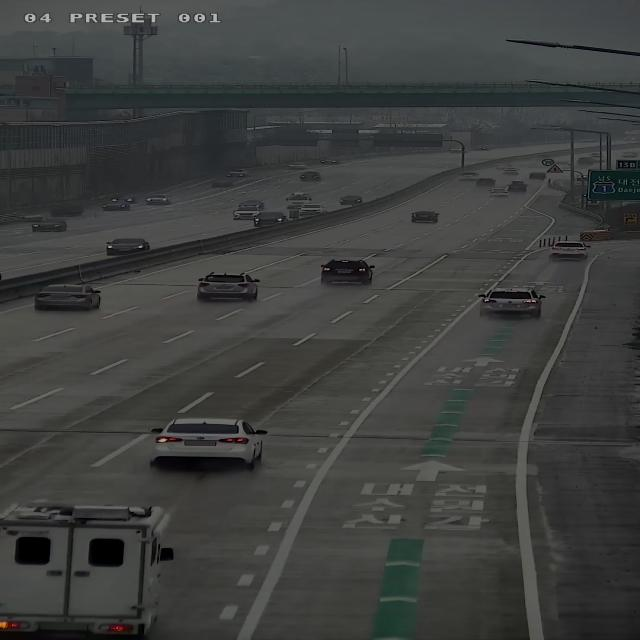Car: (153, 420, 268, 470), (480, 286, 548, 319), (199, 272, 261, 301), (35, 284, 102, 310), (321, 259, 375, 285), (395, 203, 449, 229), (106, 238, 151, 257), (550, 242, 592, 260), (278, 188, 312, 208), (31, 219, 67, 234), (142, 188, 172, 206), (99, 199, 135, 213), (339, 188, 369, 204), (252, 211, 280, 226), (299, 202, 326, 216), (233, 208, 259, 222), (114, 192, 139, 203), (240, 198, 262, 210)
Truck: (0, 501, 178, 640)
